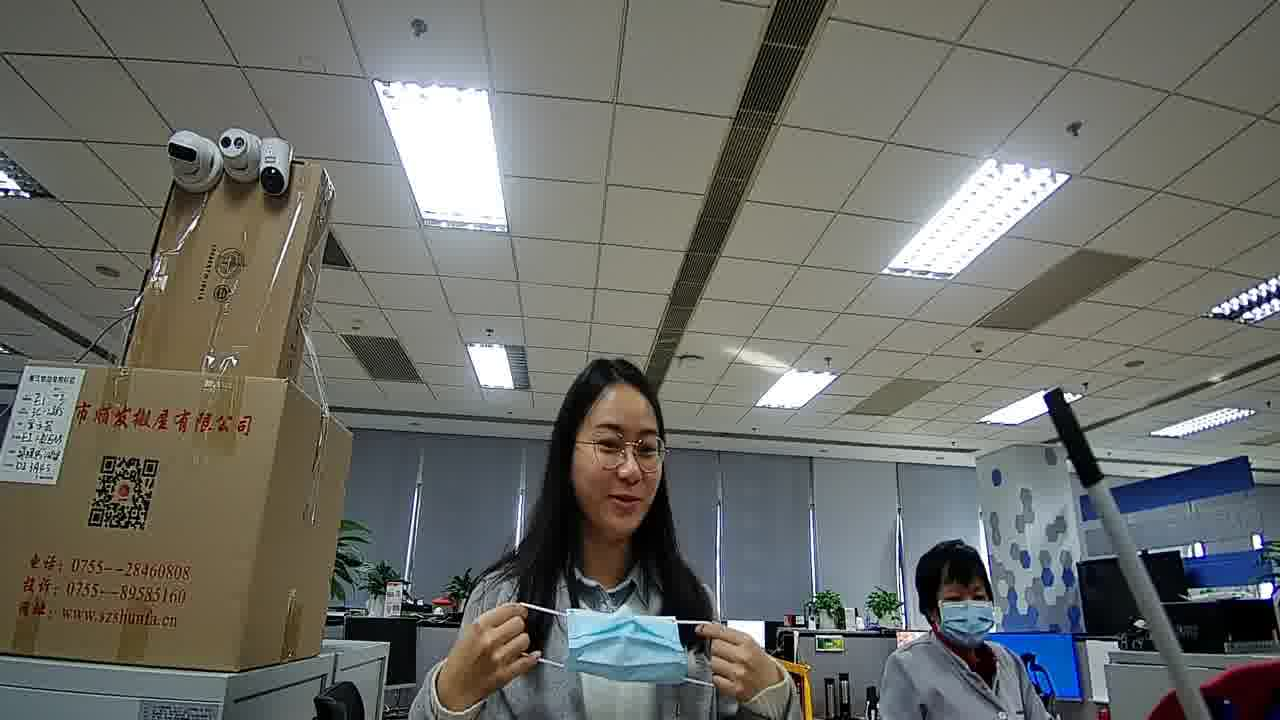face: (559, 398, 670, 532), (938, 582, 993, 647)
mask: (564, 607, 688, 687), (943, 602, 991, 646)
person: (459, 356, 733, 647), (884, 530, 1033, 683)
